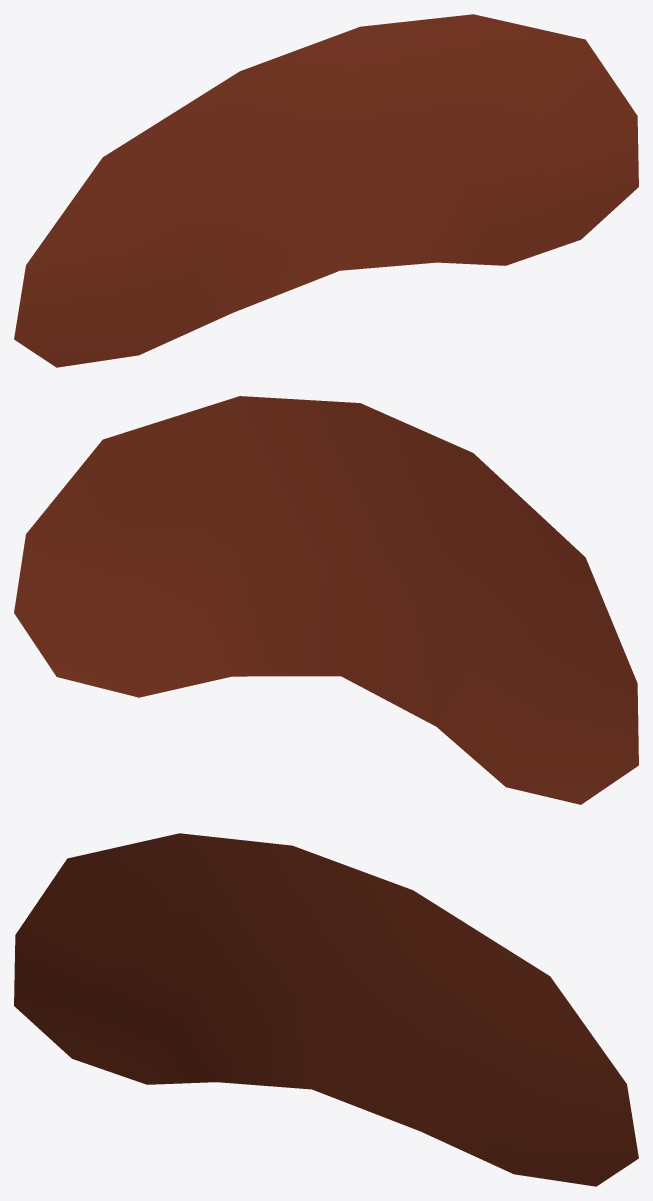
The model's file is Mouth_Brown_7.fbx.
3 views of the same model, one above another, from view 1: azimuth 30°, elevation 25°; view 2: azimuth 150°, elevation 25°; view 3: azimuth 330°, elevation 25° (orthographic).
Visible parts, largest first — view 1: Mouth_Brown_7; view 2: Mouth_Brown_7; view 3: Mouth_Brown_7.
Part boxes in pixels (x1,y1,x2,y2): Mouth_Brown_7: [14, 14, 638, 367]; Mouth_Brown_7: [14, 396, 638, 804]; Mouth_Brown_7: [14, 833, 638, 1186].
Bounding box in the file's own units: 7.44 × 3.55 × 0.8569.
